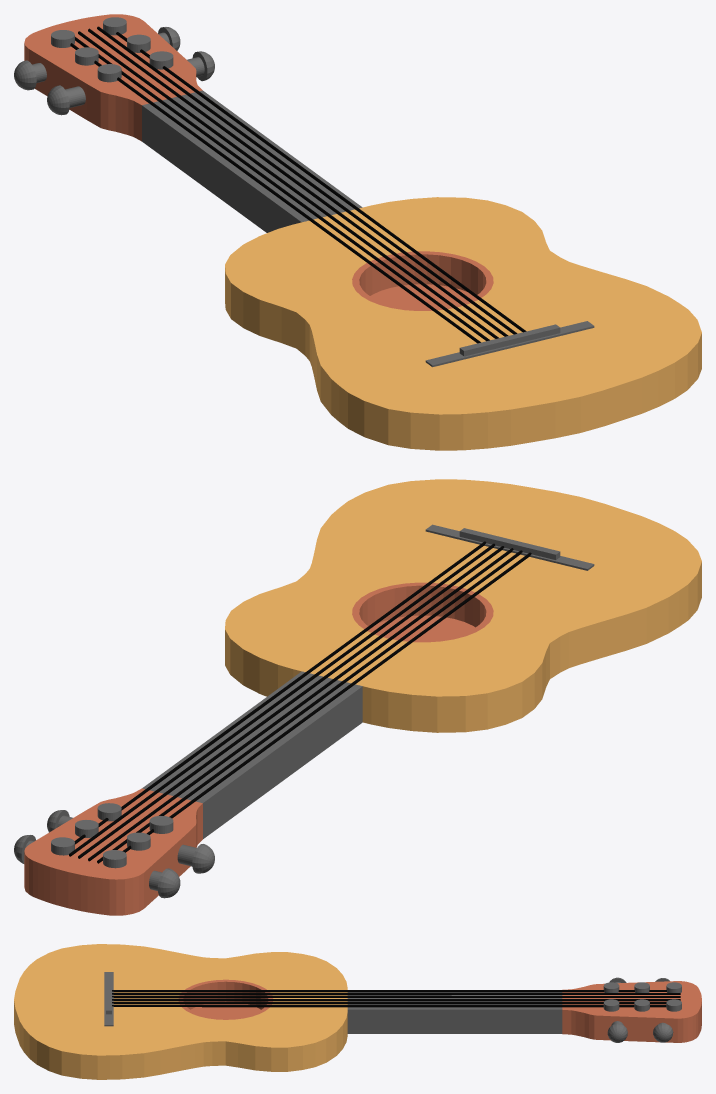
File: Guitar.fbx
The picture shows the model from 3 angles, top to bottom: view 1: azimuth 30°, elevation 25°; view 2: azimuth 150°, elevation 25°; view 3: azimuth 270°, elevation 25°; orthographic projection. The views are drawn at different scales.
Parts seen in each view (by area): view 1: Guitar; view 2: Guitar; view 3: Guitar.
Boxes of the visible parts, x1,y1,x2,y2 form: Guitar: (14, 14, 701, 450); Guitar: (14, 479, 701, 915); Guitar: (14, 944, 701, 1079).
Size of the model in its own units: 52.21 by 6.54 by 136.
